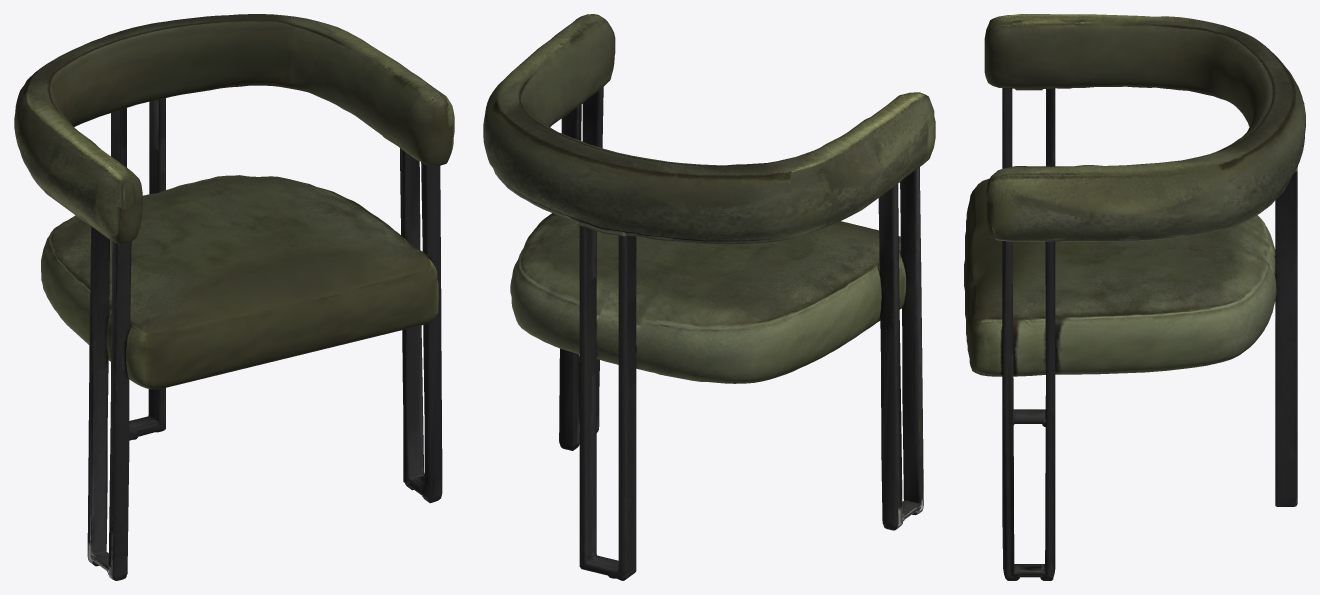
File: Olive_Line_Dining_Cha_0404021835_texture.glb
3 renders of one model, left to right at view 1: azimuth 30°, elevation 25°; view 2: azimuth 150°, elevation 25°; view 3: azimuth 270°, elevation 25°, orthographic. The views are drawn at different scales.
Visible parts, largest first — view 1: Mesh_0.003; view 2: Mesh_0.003; view 3: Mesh_0.003.
Part boxes in pixels (bbox=[...]): Mesh_0.003: bbox=[14, 14, 454, 580]; Mesh_0.003: bbox=[483, 14, 935, 580]; Mesh_0.003: bbox=[964, 14, 1305, 580].
Size of the model in its own units: 0.7394 by 0.8128 by 0.6125.
1 material, 1 textured.
